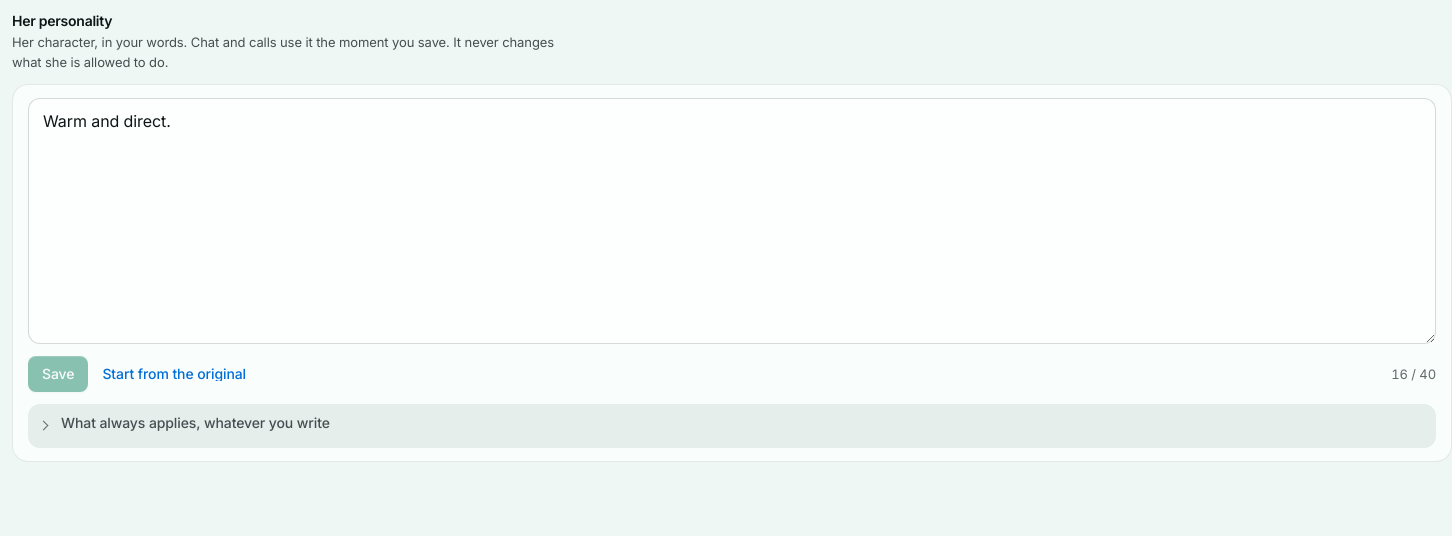
her personality › keeps the draft and gives the reason when the backend refuses it
The width and height of the screenshot is (1452, 536).
In the text box named "Personality": (732, 221) x1=28 y1=98 x2=1436 y2=344, type " Key 1234."
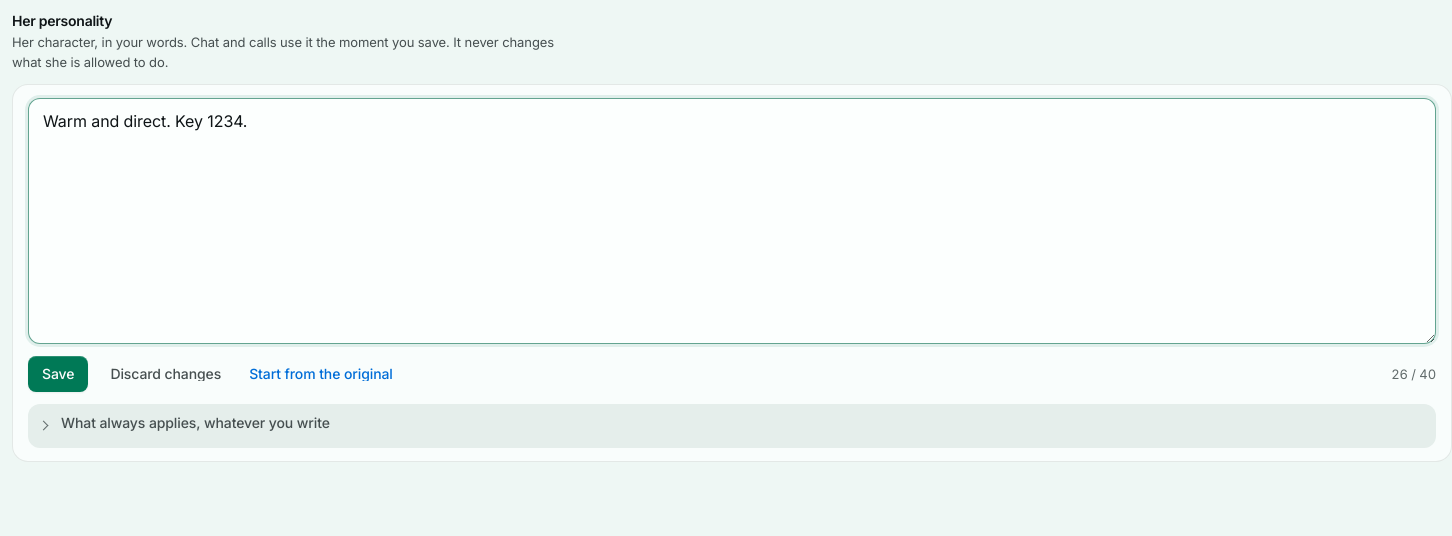
Click the button "Save": (58, 374) x1=28 y1=356 x2=88 y2=392
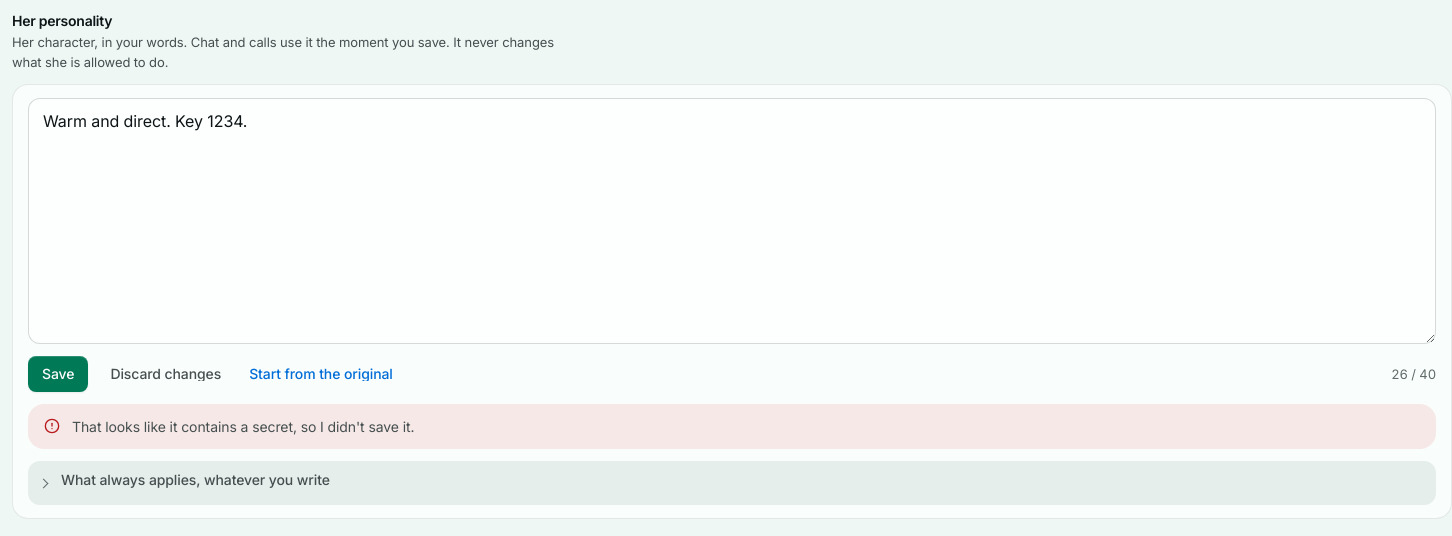
Result: the text box named "Personality" holds "Warm and direct. Key 1234." at x1=28 y1=98 x2=1436 y2=344
Result: the text "That looks like it contains a secret, so I didn't save it." is shown at x1=72 y1=418 x2=414 y2=435
